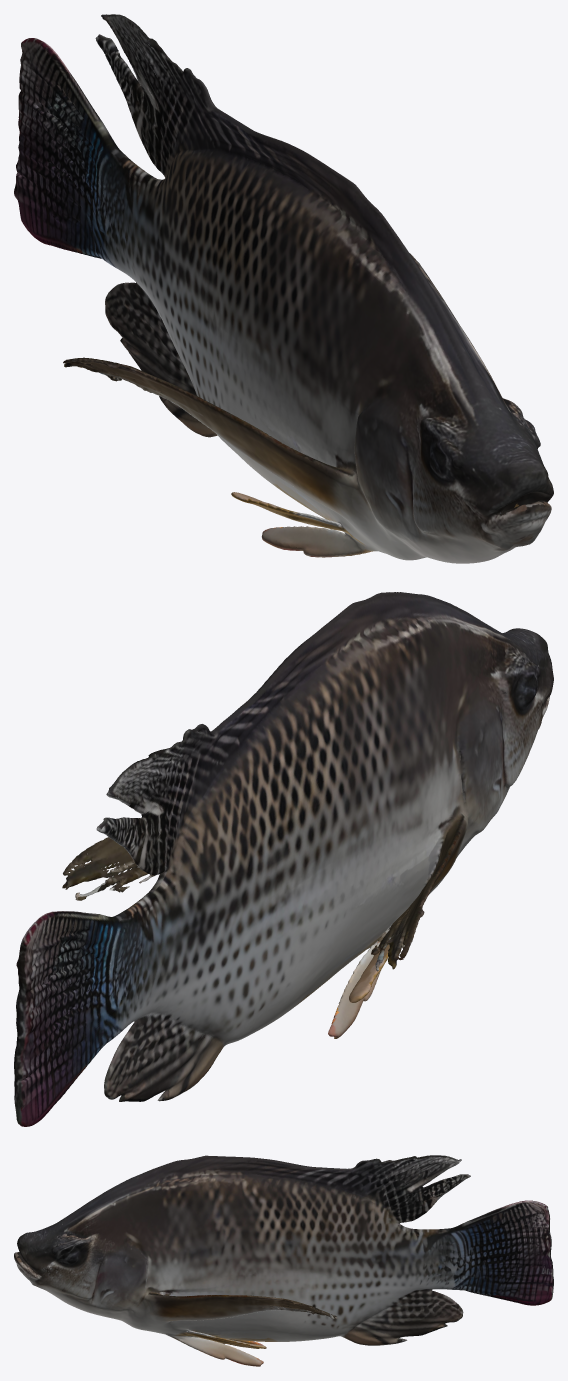
Rendered from tilapia.glb.
3 renders of one model, top to bottom at view 1: azimuth 30°, elevation 25°; view 2: azimuth 150°, elevation 25°; view 3: azimuth 270°, elevation 25°, orthographic. The views are drawn at different scales.
Parts seen in each view (by area): view 1: tripo_node_a32e1706-aefd-4620-b3e0-4e501bbe6f15; view 2: tripo_node_a32e1706-aefd-4620-b3e0-4e501bbe6f15; view 3: tripo_node_a32e1706-aefd-4620-b3e0-4e501bbe6f15.
Part boxes in pixels (bbox=[...]): tripo_node_a32e1706-aefd-4620-b3e0-4e501bbe6f15: bbox=[14, 14, 553, 563]; tripo_node_a32e1706-aefd-4620-b3e0-4e501bbe6f15: bbox=[14, 592, 553, 1126]; tripo_node_a32e1706-aefd-4620-b3e0-4e501bbe6f15: bbox=[14, 1155, 553, 1366].
Size of the model in its own units: 0.3802 by 0.4128 by 1.
Materials: 1 (1 with a texture image).
